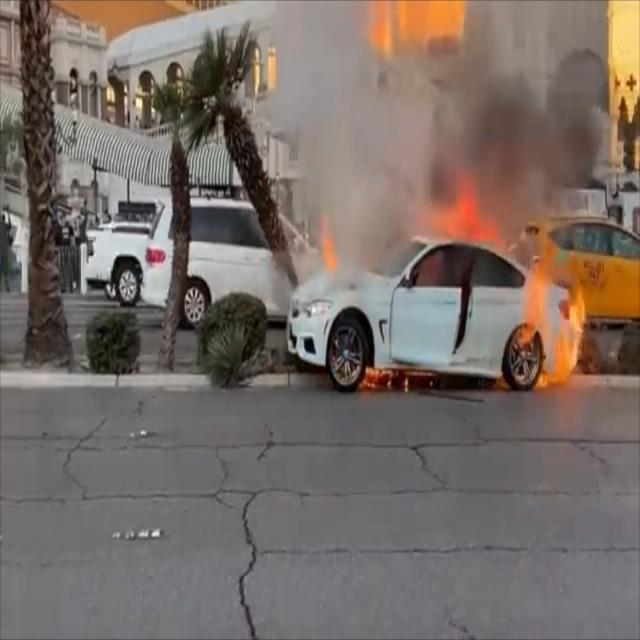fire: (500, 161, 597, 399)
